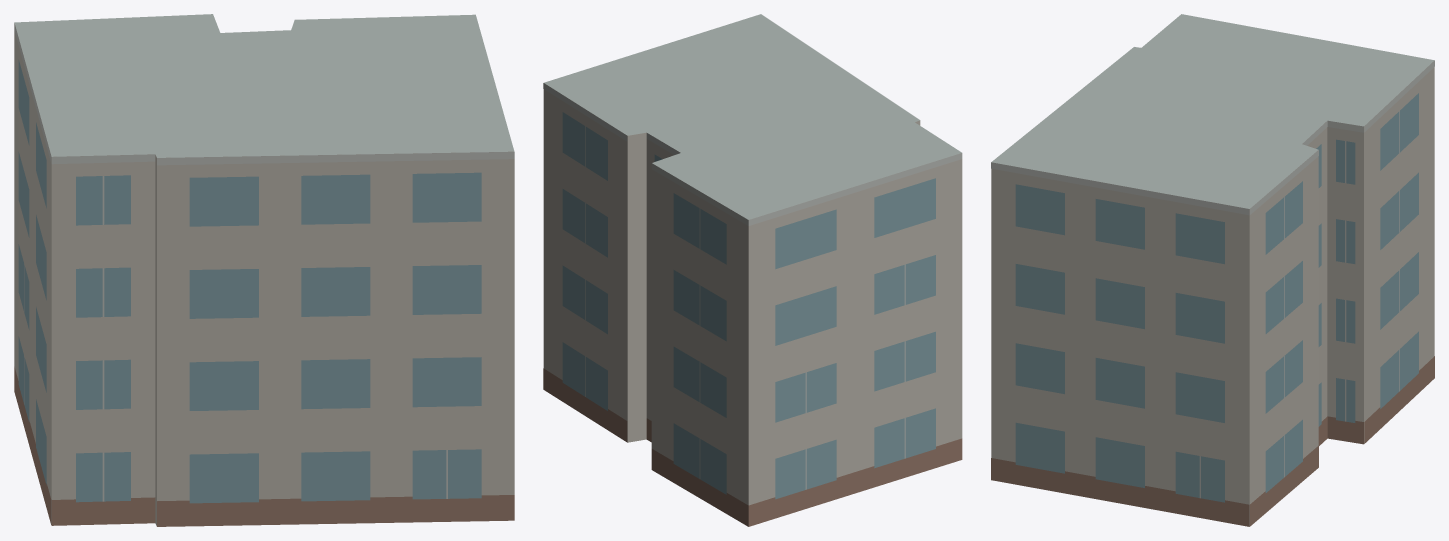
The model's file is survey-upis-32930161.glb.
3 views of the same model, side by side, from view 1: azimuth 30°, elevation 25°; view 2: azimuth 150°, elevation 25°; view 3: azimuth 270°, elevation 25° (orthographic). The views are drawn at different scales.
Visible parts, largest first — view 1: survey-upis-32930161.tmp; view 2: survey-upis-32930161.tmp; view 3: survey-upis-32930161.tmp.
Part boxes in pixels (x1,y1,x2,y2): survey-upis-32930161.tmp: [14, 14, 514, 526]; survey-upis-32930161.tmp: [543, 14, 962, 526]; survey-upis-32930161.tmp: [991, 14, 1434, 526].
Bounding box in the file's own units: 16.06 × 12.2 × 15.44.
